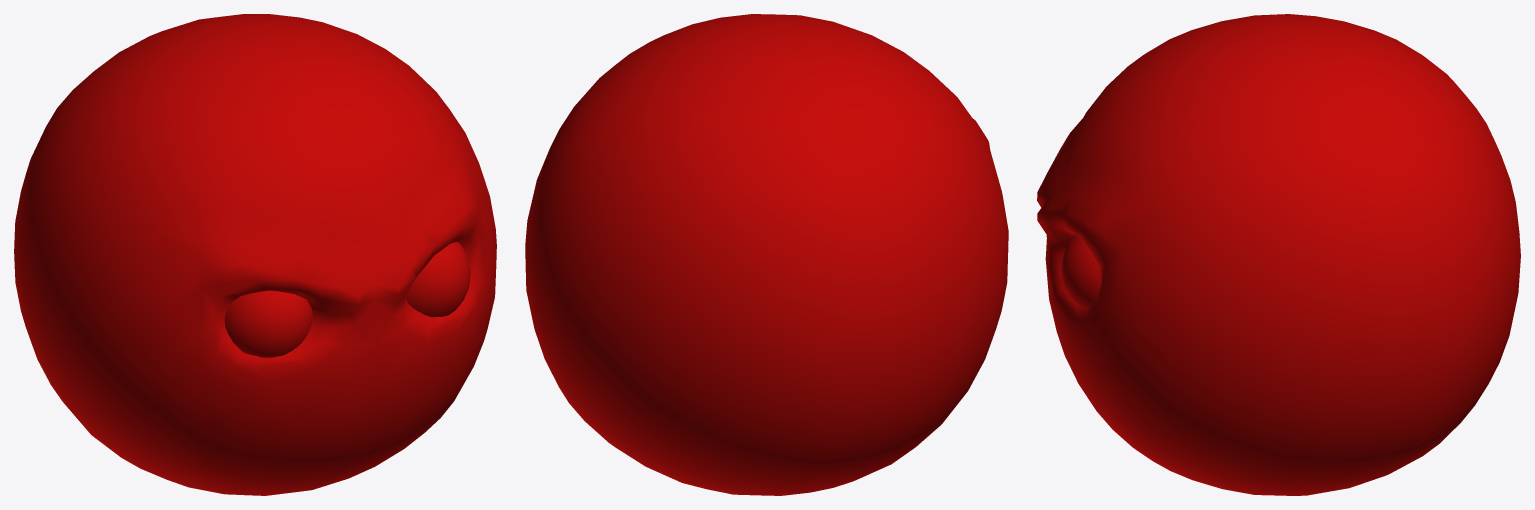
File: Slime Monster.fbx
3 renders of one model, left to right at view 1: azimuth 30°, elevation 25°; view 2: azimuth 150°, elevation 25°; view 3: azimuth 270°, elevation 25°, orthographic.
Visible parts, largest first — view 1: Slime low_poly; view 2: Slime low_poly; view 3: Slime low_poly.
Boxes of the visible parts, box(x1,y1,x2,y2) form: Slime low_poly: box(14, 14, 496, 495); Slime low_poly: box(525, 14, 1008, 495); Slime low_poly: box(1037, 14, 1520, 495).
Bounding box in the file's own units: 166 × 166 × 169.
